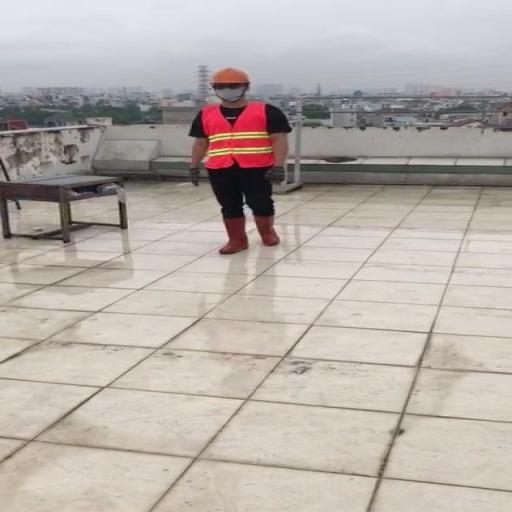Boots: (216, 215, 250, 255), (254, 213, 280, 247)
Helmet: (208, 67, 252, 84)
Person: (182, 65, 294, 258)
